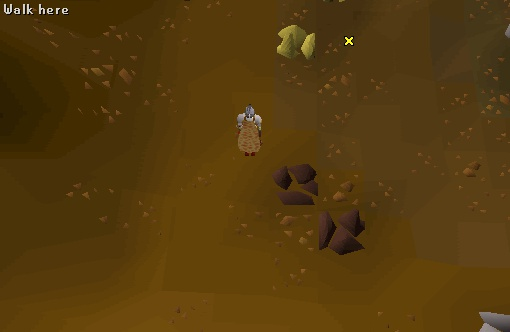gold: (272, 18, 328, 67)
iron: (313, 206, 378, 266), (265, 155, 325, 213)
